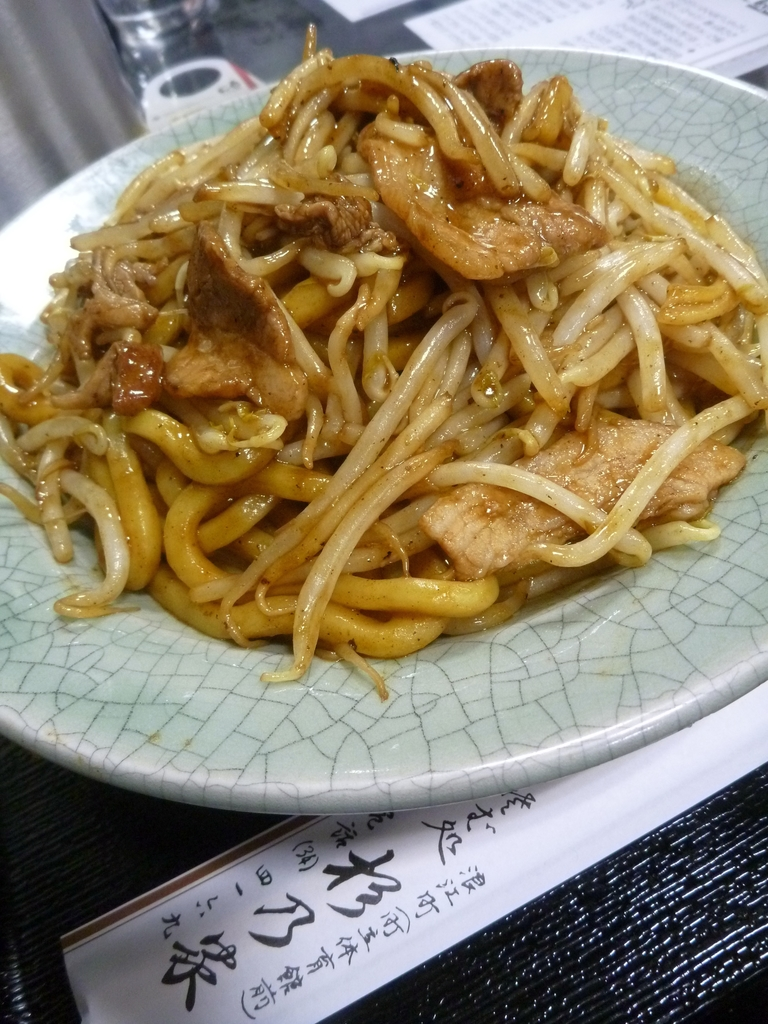pasta: (12, 3, 768, 728)
